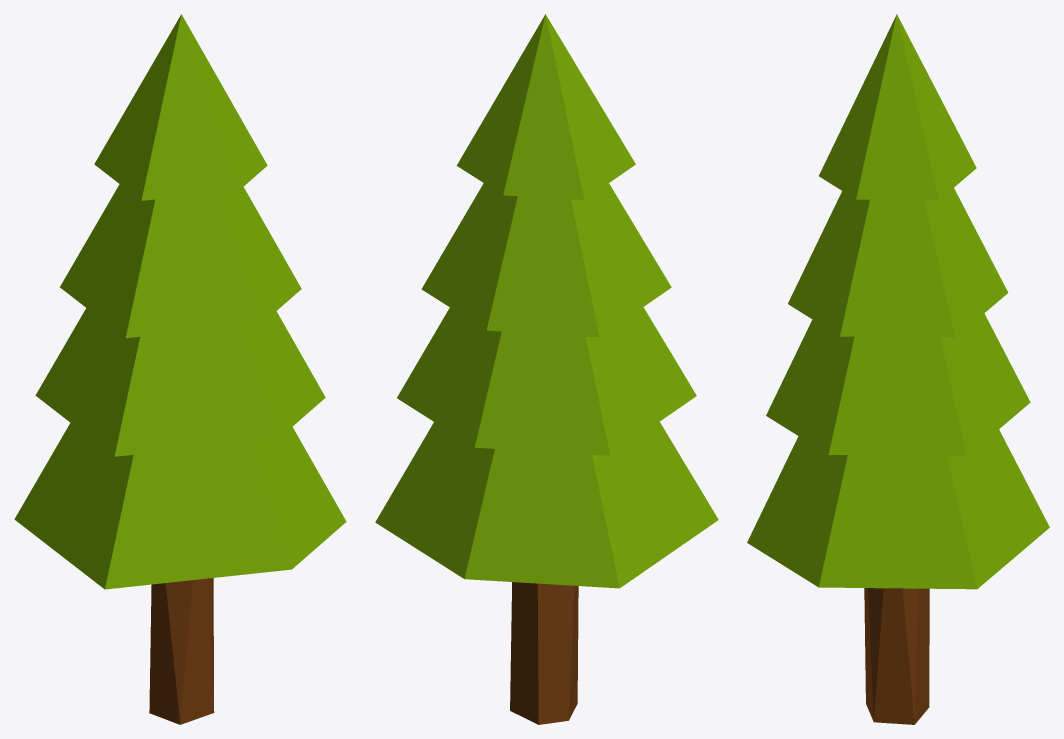
File: arbol.fbx
The picture shows the model from 3 angles, left to right: view 1: azimuth 30°, elevation 25°; view 2: azimuth 150°, elevation 25°; view 3: azimuth 270°, elevation 25°; orthographic projection.
Parts seen in each view (by area): view 1: Cone.003, Cone.002, Cone.001, Cone, Cylinder; view 2: Cone.003, Cone.002, Cone.001, Cone, Cylinder; view 3: Cone.003, Cone.002, Cone.001, Cone, Cylinder.
Part boxes in pixels (x1=…): Cone.003: x1=14, y1=423, x2=346, y2=589; Cone.002: x1=35, y1=308, x2=325, y2=456; Cone.001: x1=60, y1=184, x2=301, y2=338; Cone: x1=94, y1=14, x2=267, y2=200; Cylinder: x1=149, y1=578, x2=214, y2=724; Cone.003: x1=375, y1=422, x2=718, y2=588; Cone.002: x1=397, y1=307, x2=696, y2=455; Cone.001: x1=421, y1=183, x2=671, y2=337; Cone: x1=456, y1=14, x2=635, y2=200; Cylinder: x1=510, y1=582, x2=578, y2=724; Cone.003: x1=747, y1=429, x2=1049, y2=589; Cone.002: x1=766, y1=313, x2=1030, y2=456; Cone.001: x1=788, y1=188, x2=1008, y2=337; Cone: x1=819, y1=14, x2=976, y2=200; Cylinder: x1=864, y1=588, x2=929, y2=724.
Bounding box in the file's own units: 299 × 781 × 307.
